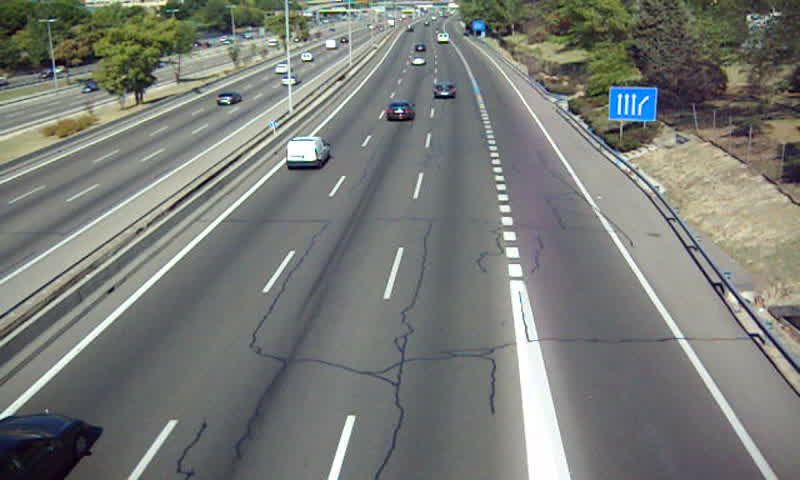car: (385, 100, 415, 122), (431, 81, 458, 101)
van: (286, 138, 331, 168)
